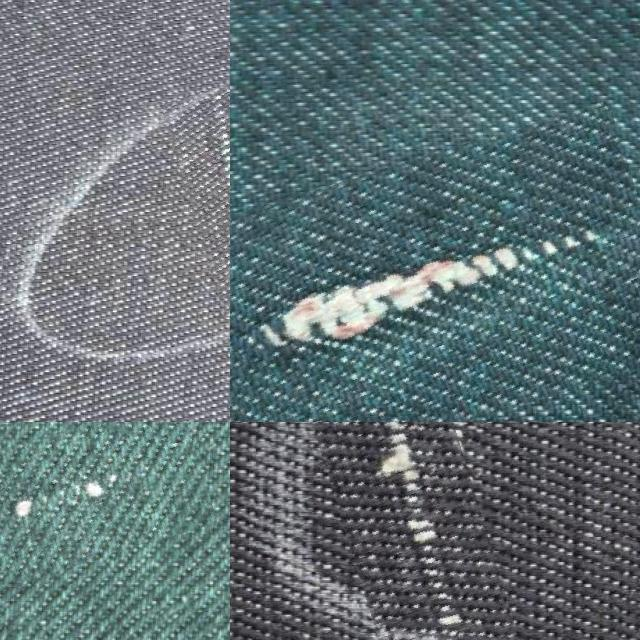stains: (230, 137, 640, 422), (332, 422, 554, 640), (0, 422, 209, 572), (174, 81, 230, 312)
